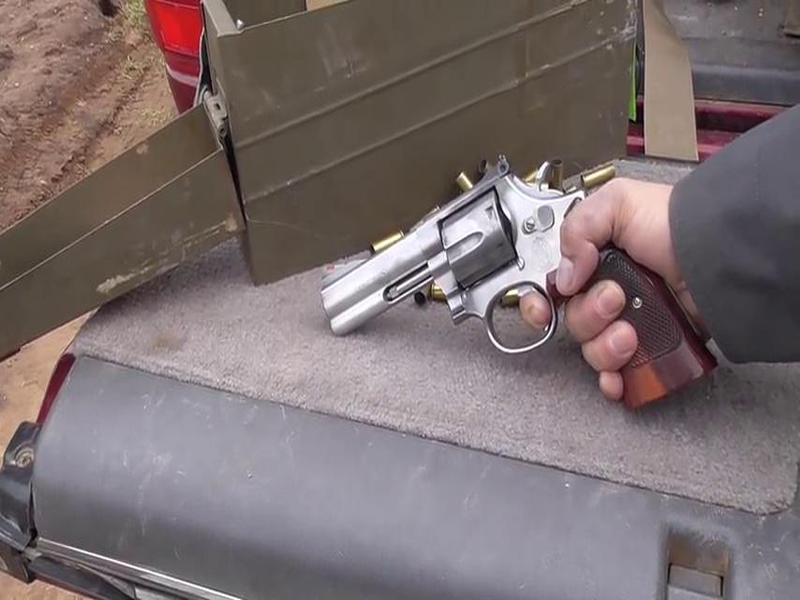Revolver: (315, 158, 625, 404)
